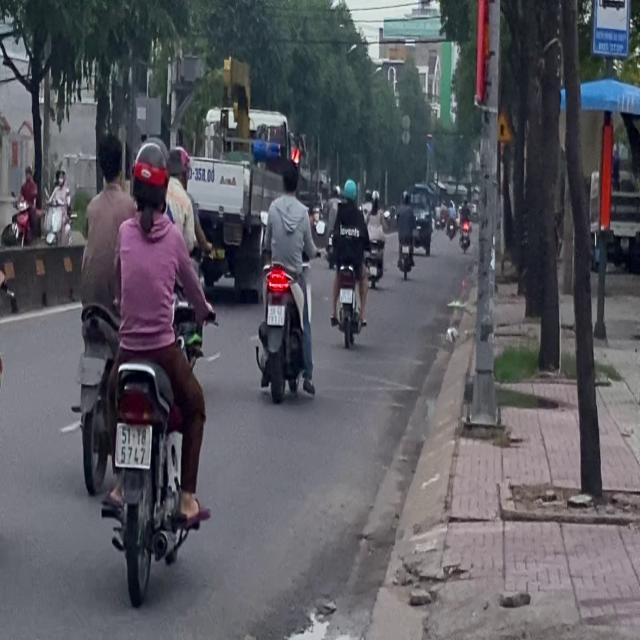helmet: (130, 140, 170, 218)
licenseplate: (86, 134, 215, 601), (69, 129, 124, 494), (255, 157, 317, 401)
motorcyclist: (95, 131, 125, 188), (278, 159, 298, 195)
nohelmet: (115, 424, 151, 466), (78, 356, 104, 384), (267, 304, 284, 324)
